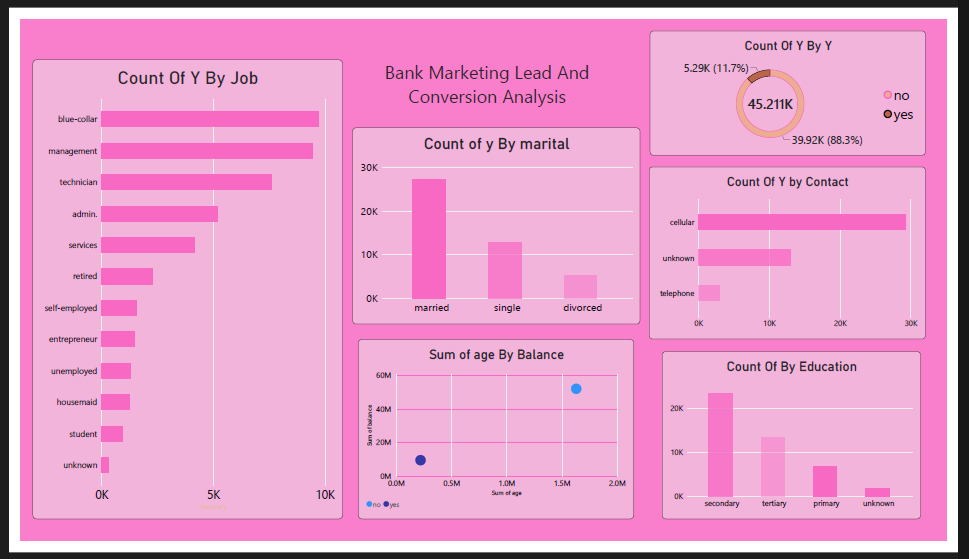

The page's visual inventory and layout, read from the dashboard file:
{"tool":"powerbi","page":{"name":"Page 1","canvas":[1920,1080],"ordinal":0},"visuals":[{"type":"donutChart","title":"Count Of Y By Y","fields":{"Category":["bank_marketing_cleaned.y"],"Y":["CountNonNull(bank_marketing_cleaned.y)"]},"box":[1305.2,22.7,572,259.5],"z":0},{"type":"clusteredBarChart","title":"Count Of Y By Job","fields":{"Category":["bank_marketing_cleaned.job"],"Y":["CountNonNull(bank_marketing_cleaned.y)"]},"box":[25.2,83.1,642.5,952.4],"z":1000},{"type":"clusteredBarChart","title":"Count Of Y by Contact","fields":{"Y":["CountNonNull(bank_marketing_cleaned.y)"],"Category":["bank_marketing_cleaned.contact"]},"box":[1302.7,304.9,574.5,357.8],"z":2000},{"type":"clusteredColumnChart","title":"Count Of By Education","fields":{"Category":["bank_marketing_cleaned.education"],"Y":["CountNonNull(bank_marketing_cleaned.y)"]},"box":[1330.4,687.9,536.7,347.7],"z":3000},{"type":"columnChart","title":"Count of y By marital","fields":{"Category":["bank_marketing_cleaned.marital"],"Y":["CountNonNull(bank_marketing_cleaned.y)"]},"box":[687.9,224.3,597.2,408.2],"z":4000},{"type":"scatterChart","title":"Sum of age By Balance","fields":{"X":["Sum(bank_marketing_cleaned.age)"],"Y":["Sum(bank_marketing_cleaned.balance)"],"Series":["bank_marketing_cleaned.y"]},"box":[700.5,662.7,572,372.9],"z":5000},{"type":"textbox","box":[687.9,83.1,559.4,120.9],"z":6000}]}

Visuals, with their boxes in screenshot pixels (x1, y1, x2, y2), scaled from the page's 1920x1080 canvas onto the 969x559 screenshot:
"Count Of Y By Y" donutChart: <region>659, 12, 947, 146</region>
"Count Of Y By Job" clusteredBarChart: <region>13, 43, 337, 536</region>
"Count Of Y by Contact" clusteredBarChart: <region>657, 158, 947, 343</region>
"Count Of By Education" clusteredColumnChart: <region>671, 356, 942, 536</region>
"Count of y By marital" columnChart: <region>347, 116, 649, 327</region>
"Sum of age By Balance" scatterChart: <region>354, 343, 642, 536</region>
textbox: <region>347, 43, 629, 106</region>
